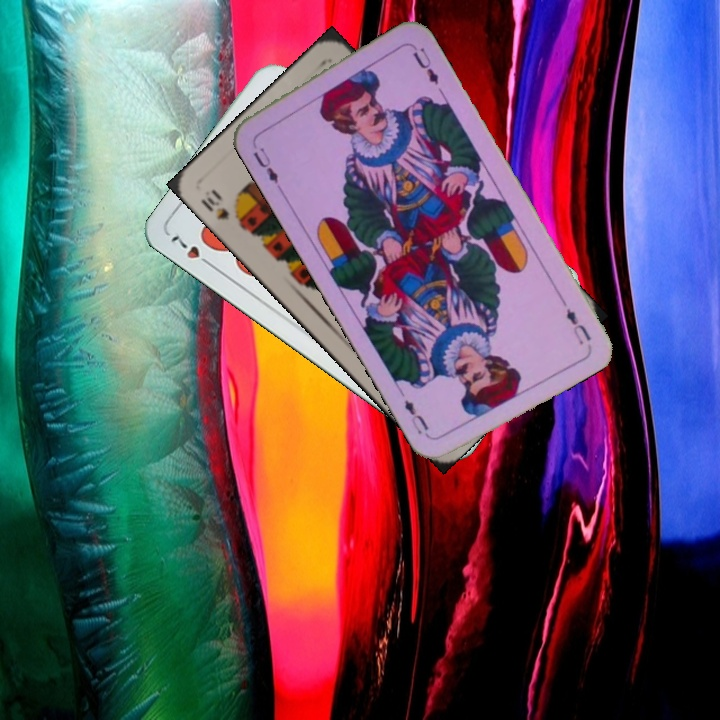EU: (248, 138, 281, 186), (562, 304, 594, 348)
H7: (166, 231, 217, 271)
S10: (196, 184, 245, 229)
